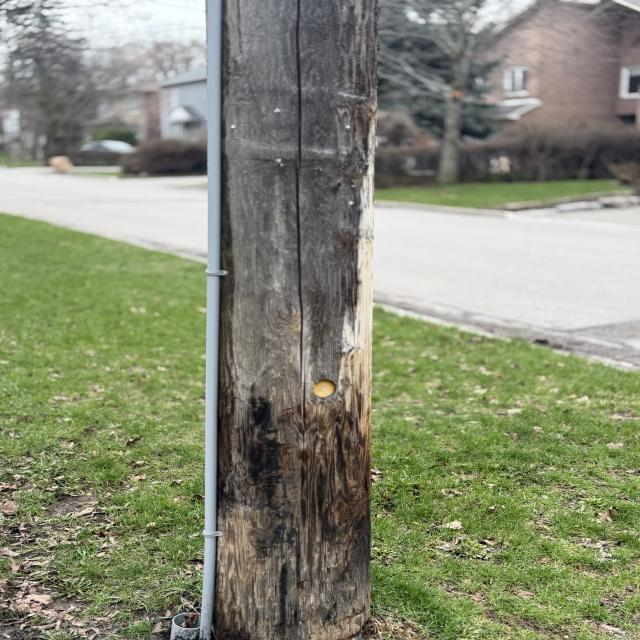Electrical Pole: (187, 2, 385, 640)
